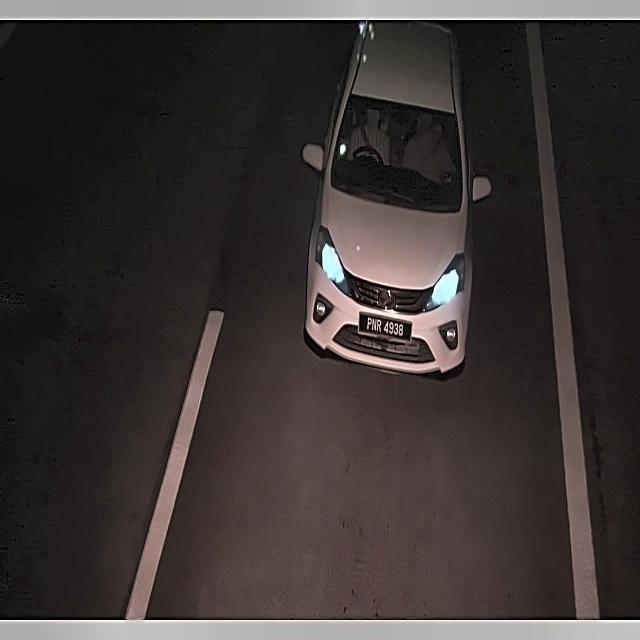car: (356, 310, 413, 345)
